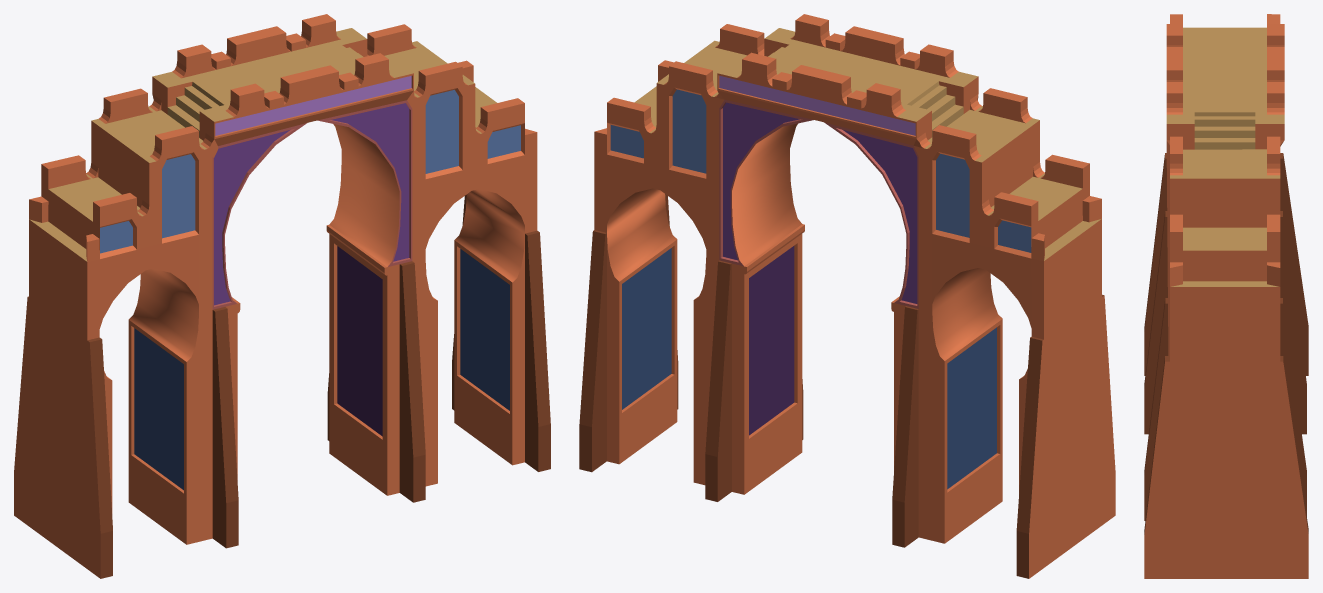
The model's file is Arab_gate.fbx.
3 views of the same model, side by side, from view 1: azimuth 30°, elevation 25°; view 2: azimuth 150°, elevation 25°; view 3: azimuth 270°, elevation 25° (orthographic). The views are drawn at different scales.
Parts seen in each view (by area): view 1: gate; view 2: gate; view 3: gate.
Boxes of the visible parts, x1=… form: gate: x1=14, y1=14, x2=550, y2=578; gate: x1=579, y1=14, x2=1115, y2=578; gate: x1=1144, y1=14, x2=1308, y2=578.
Size of the model in its own units: 3000 by 2787 by 1000.
Materials: 1 (1 with a texture image).
